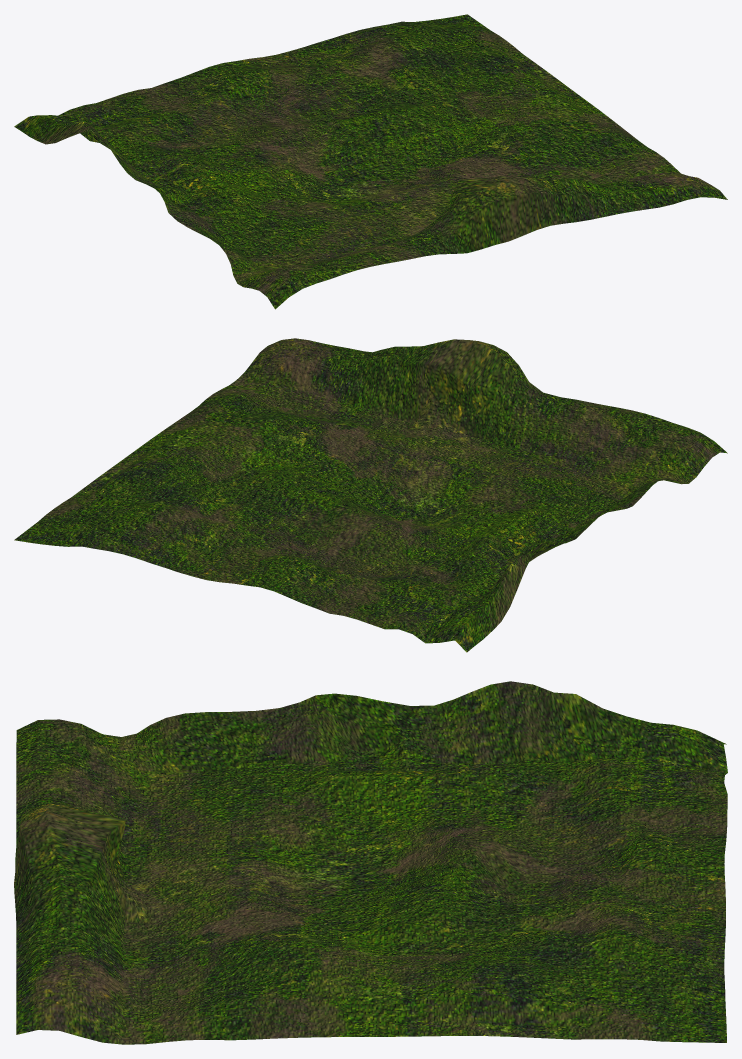
File: map.glb
The picture shows the model from 3 angles, top to bottom: view 1: azimuth 30°, elevation 25°; view 2: azimuth 150°, elevation 25°; view 3: azimuth 270°, elevation 25°; orthographic projection. The views are drawn at different scales.
Visible parts, largest first — view 1: Plane; view 2: Plane; view 3: Plane.
Part boxes in pixels (box(x1,y1,x2,y2)): Plane: box(14, 14, 727, 309); Plane: box(14, 338, 727, 652); Plane: box(14, 681, 727, 1044).
Bounding box in the file's own units: 201 × 31.7 × 201.
1 material, 1 textured.
